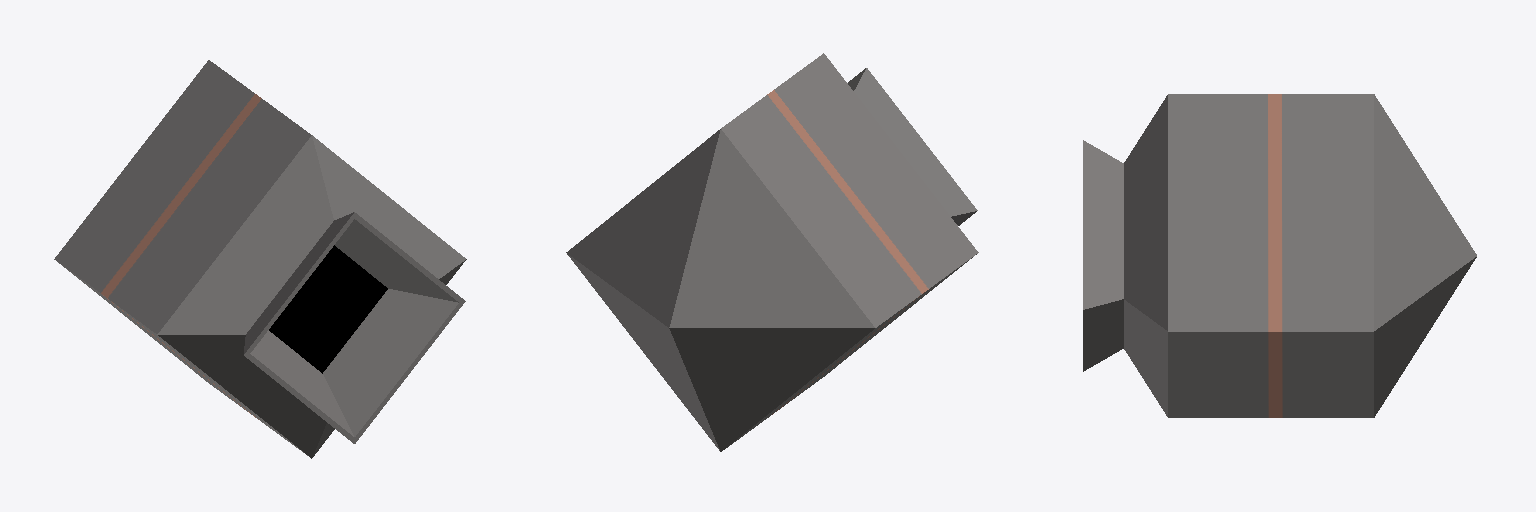
3 views of the same model, side by side, from view 1: azimuth 30°, elevation 25°; view 2: azimuth 150°, elevation 25°; view 3: azimuth 270°, elevation 25° (orthographic).
Parts seen in each view (by area): view 1: 球; view 2: 球; view 3: 球.
Part boxes in pixels (left/top/right/bottom): 球: left=54, top=60, right=466, bottom=458; 球: left=566, top=53, right=978, bottom=451; 球: left=1083, top=94, right=1476, bottom=417.
Size of the model in its own units: 1.73 by 1.73 by 1.91.
Materials: 1 (1 with a texture image).